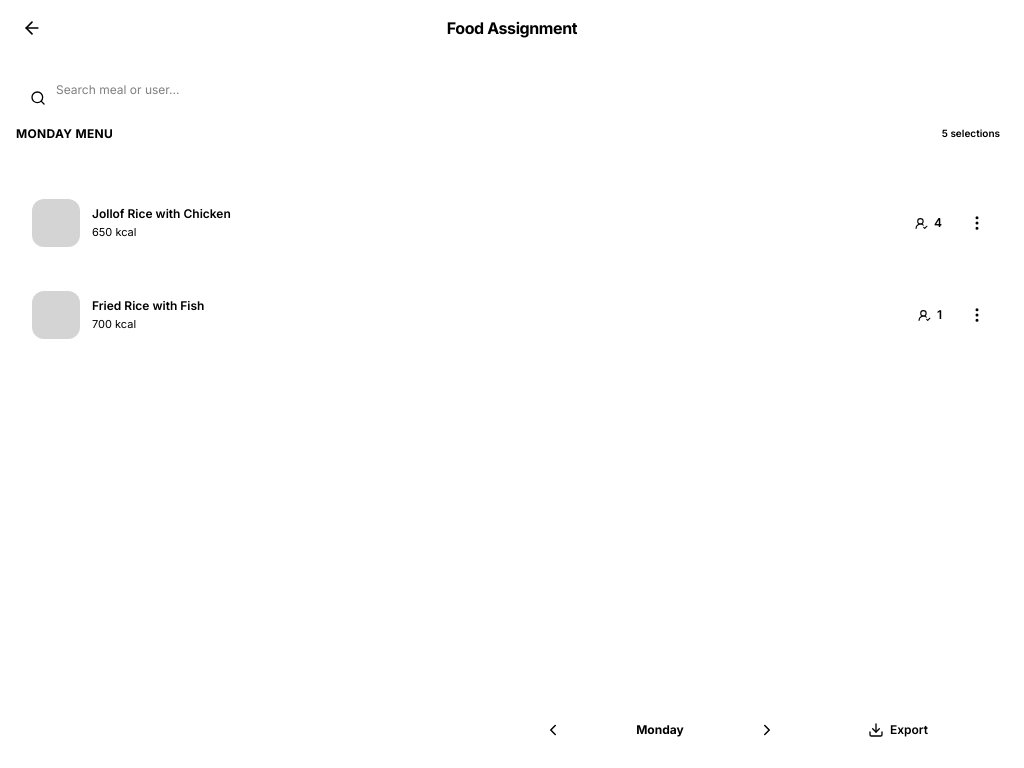
Scenario: SelectionActivity (Food Assignment) › switches days via bottom day navigation buttons
The image size is (1024, 768).
Expected: the text "Monday Menu" is shown, [16,126,113,142]
Click the button named "next day navigation": (767, 730) [754,717,780,743]
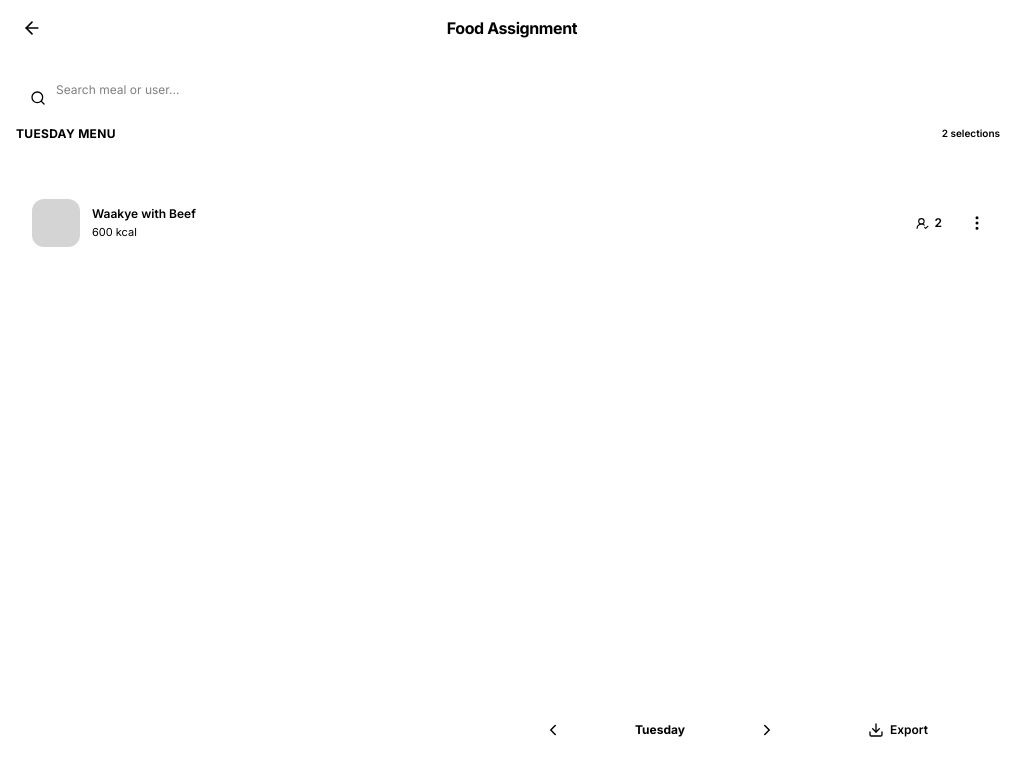
Result: the text "Tuesday Menu" is shown at [16,126,116,142]
Result: the heading "Waakye with Beef" is shown at [92,206,196,220]
